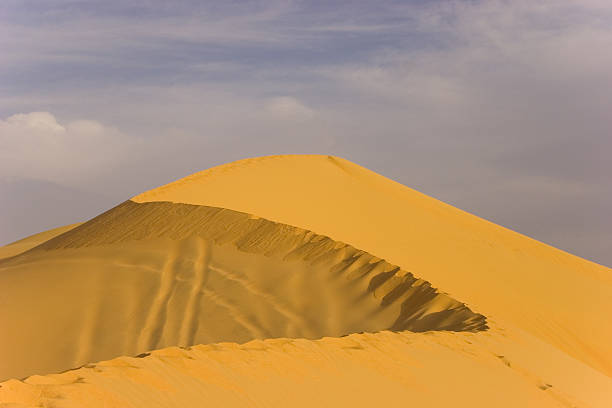vehicle_track: (59, 239, 329, 334), (7, 252, 266, 348), (140, 231, 183, 360), (183, 240, 214, 344)
